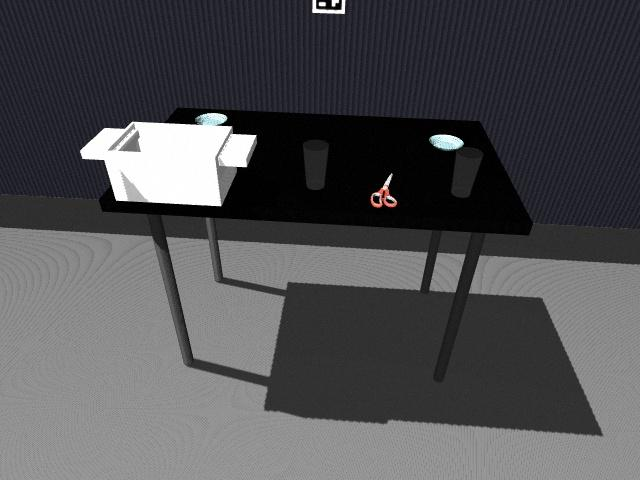cup: (451, 147, 483, 198), (302, 140, 329, 189)
plate: (428, 134, 464, 150), (194, 113, 228, 127)
scissors: (371, 171, 398, 208)
